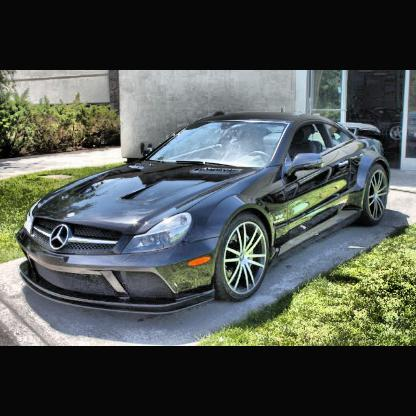Mercedes-Benz SL-Class Coupe 2009: (15, 109, 393, 319)
